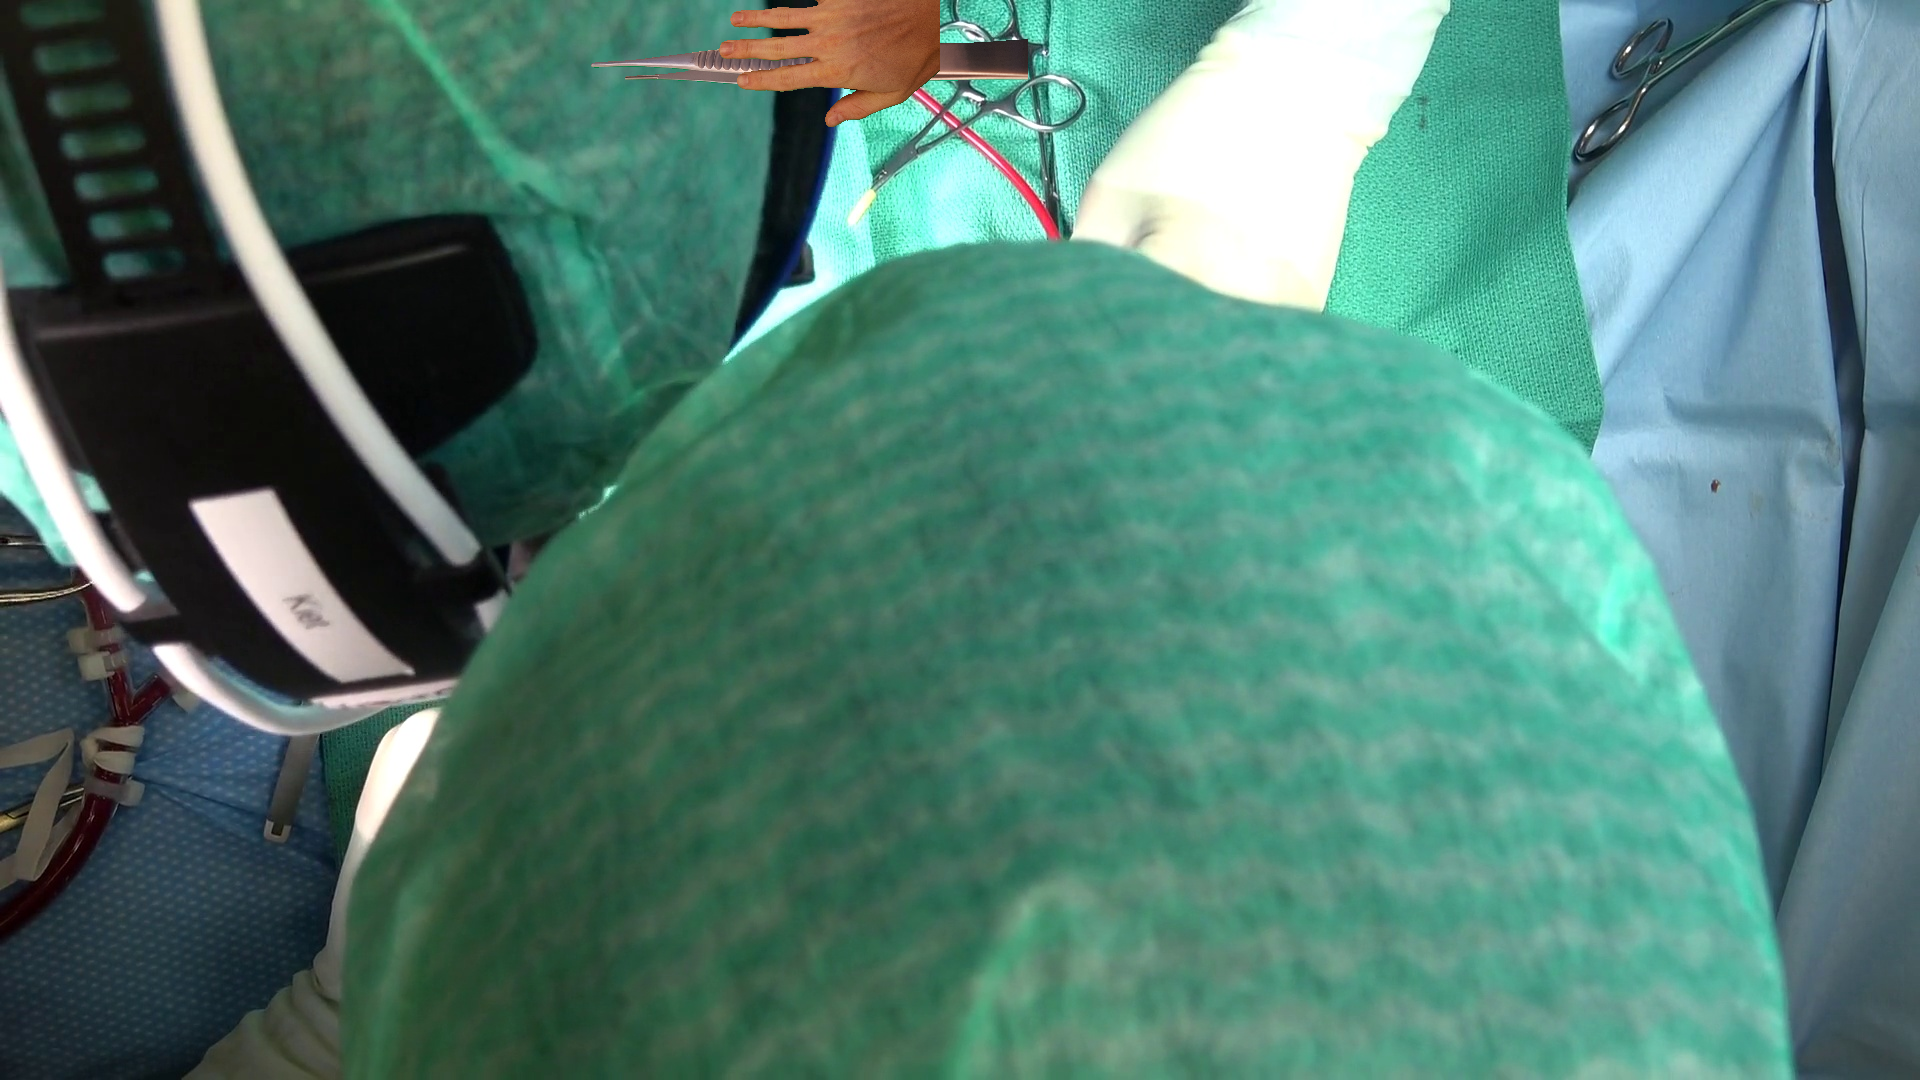forceps: (591, 40, 1027, 86)
